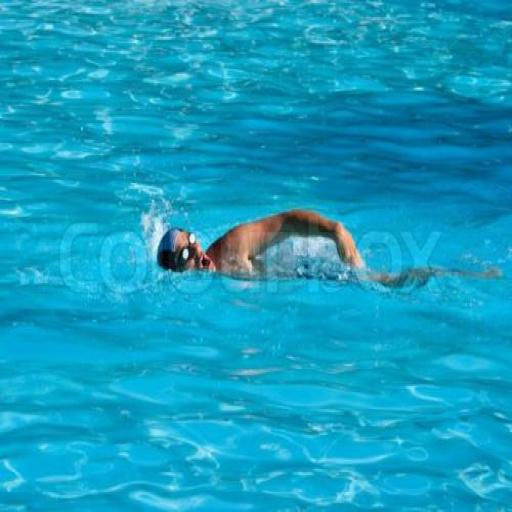swimming: (154, 206, 504, 294)
